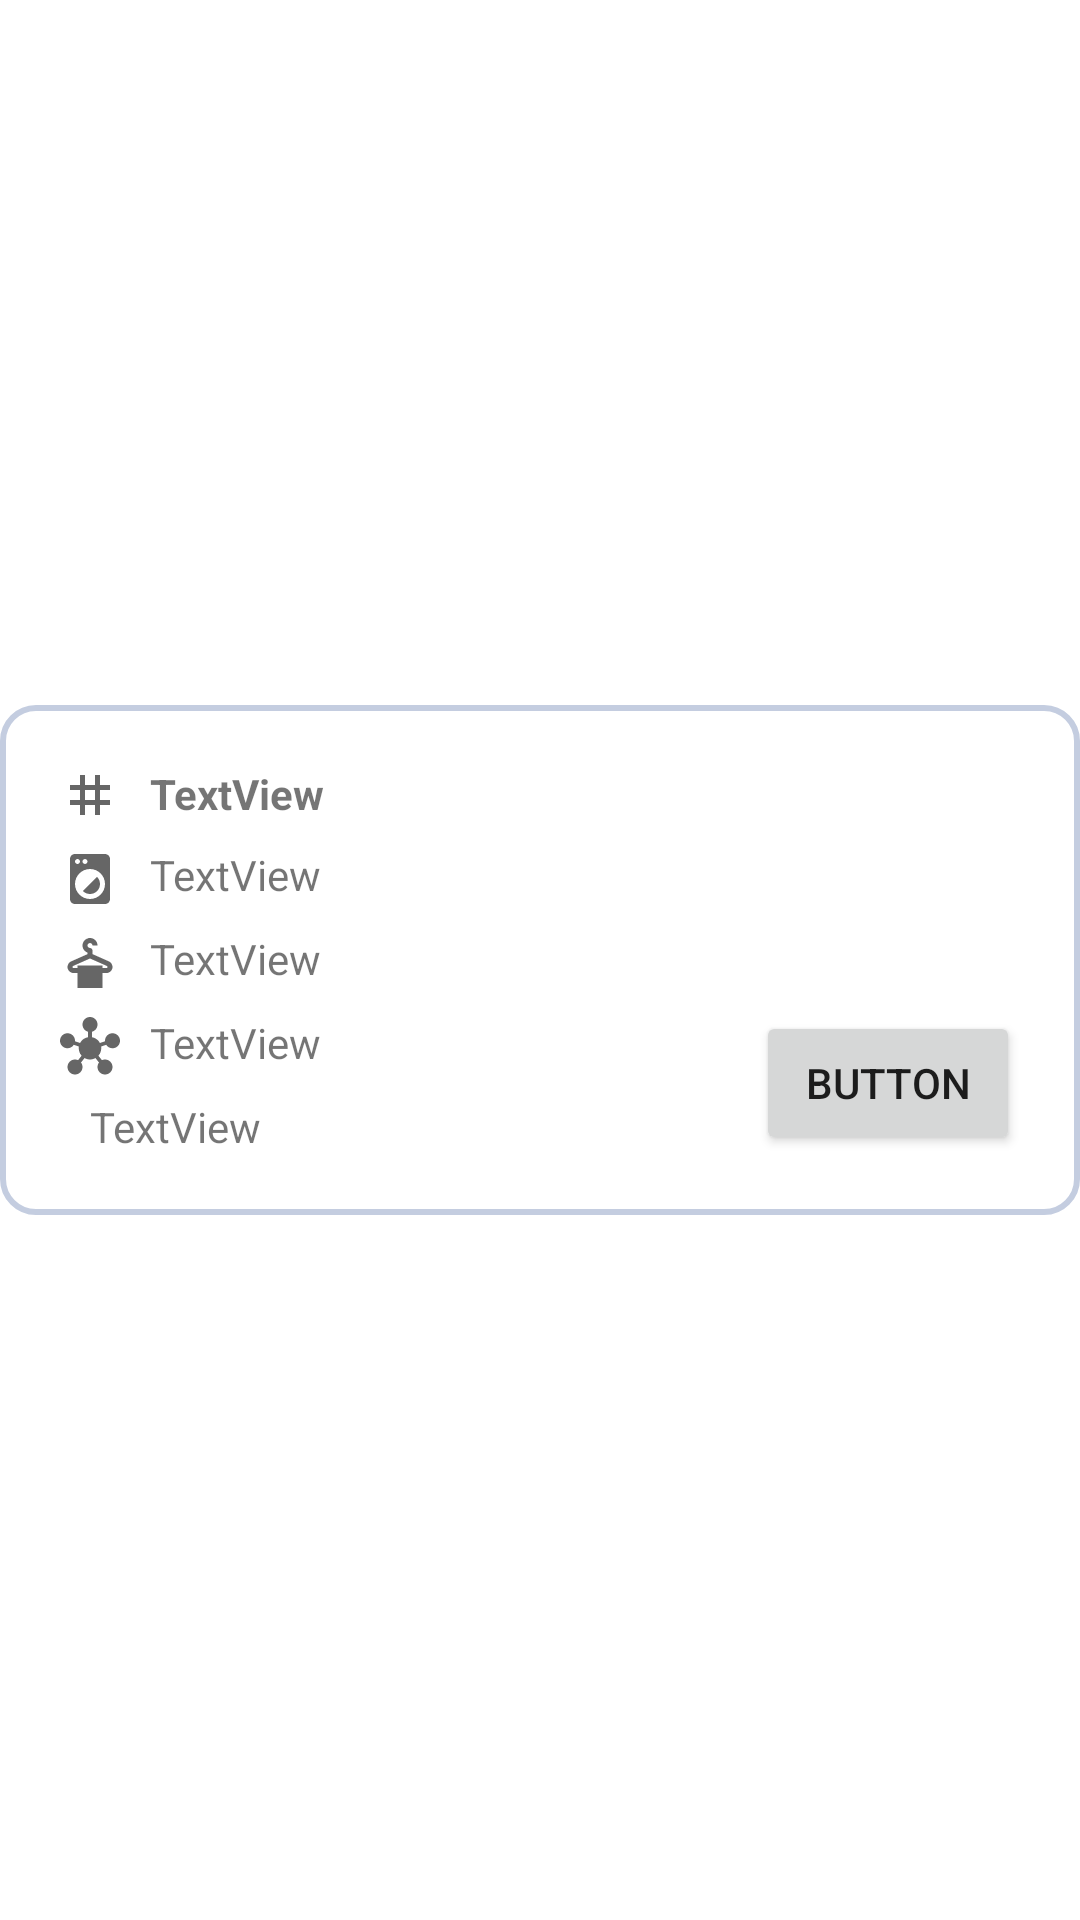

Icon bounding boxes for this 1080px x 1920px phone screenshot, format [left=x1, top=y1, right=x2, bottom=y2]:
code: [left=70, top=775, right=110, bottom=815]
